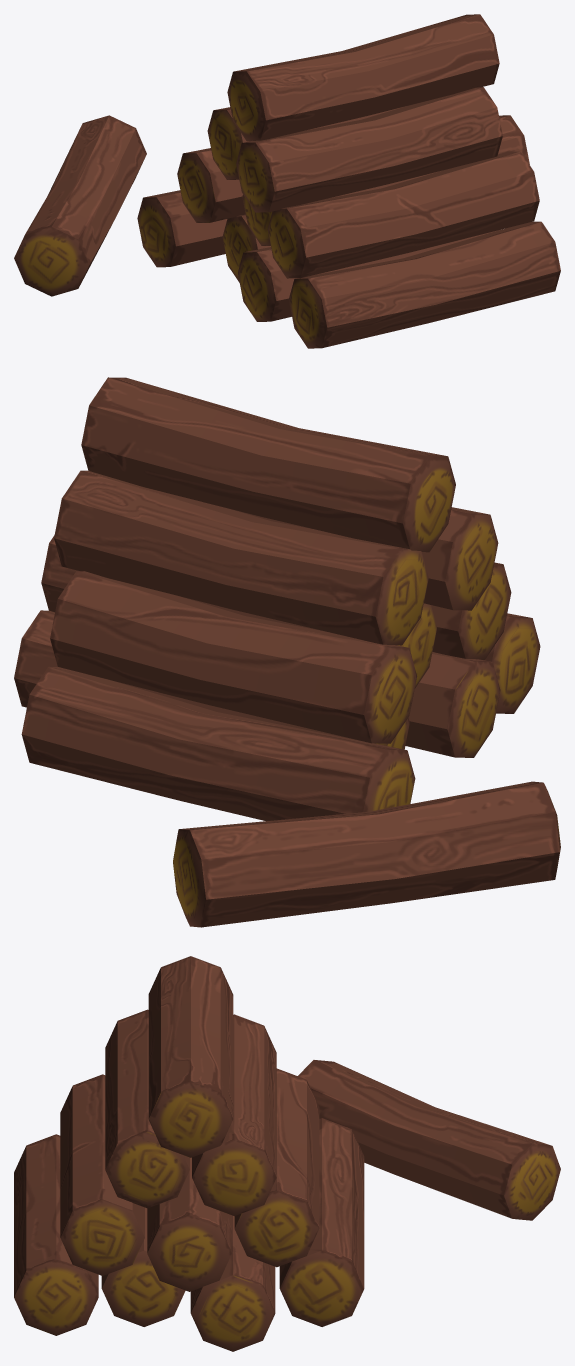
File: Odun 04.fbx
3 renders of one model, top to bottom at view 1: azimuth 30°, elevation 25°; view 2: azimuth 150°, elevation 25°; view 3: azimuth 270°, elevation 25°, orthographic. The views are drawn at different scales.
Visible parts, largest first — view 1: logs; view 2: logs; view 3: logs.
Boxes of the visible parts, <box> form: logs: <box>14,14,560,348</box>; logs: <box>14,377,560,927</box>; logs: <box>14,956,560,1351</box>.
Size of the model in its own units: 236 by 122 by 237.
1 material, 1 textured.
